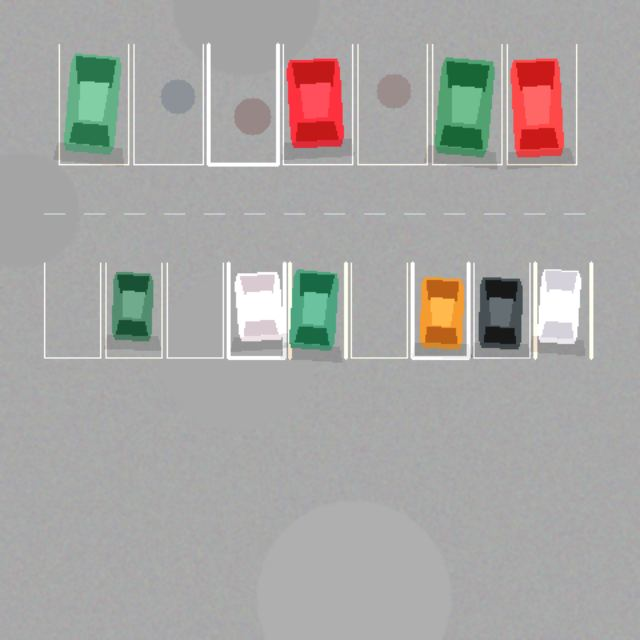space-empty: (133, 44, 203, 164), (357, 44, 427, 164), (208, 44, 277, 164), (44, 263, 100, 357), (167, 263, 223, 357), (351, 263, 407, 357)
space-occupied: (59, 44, 128, 164), (283, 44, 352, 164), (432, 44, 501, 164), (507, 44, 576, 164), (105, 263, 161, 357), (228, 263, 284, 357), (289, 263, 345, 357), (412, 263, 468, 357), (473, 263, 529, 357), (535, 263, 591, 357)
